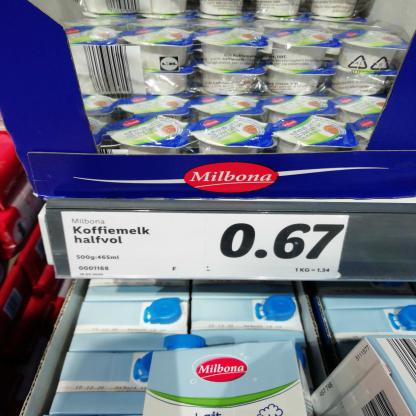prtg: (62, 213, 351, 281)
